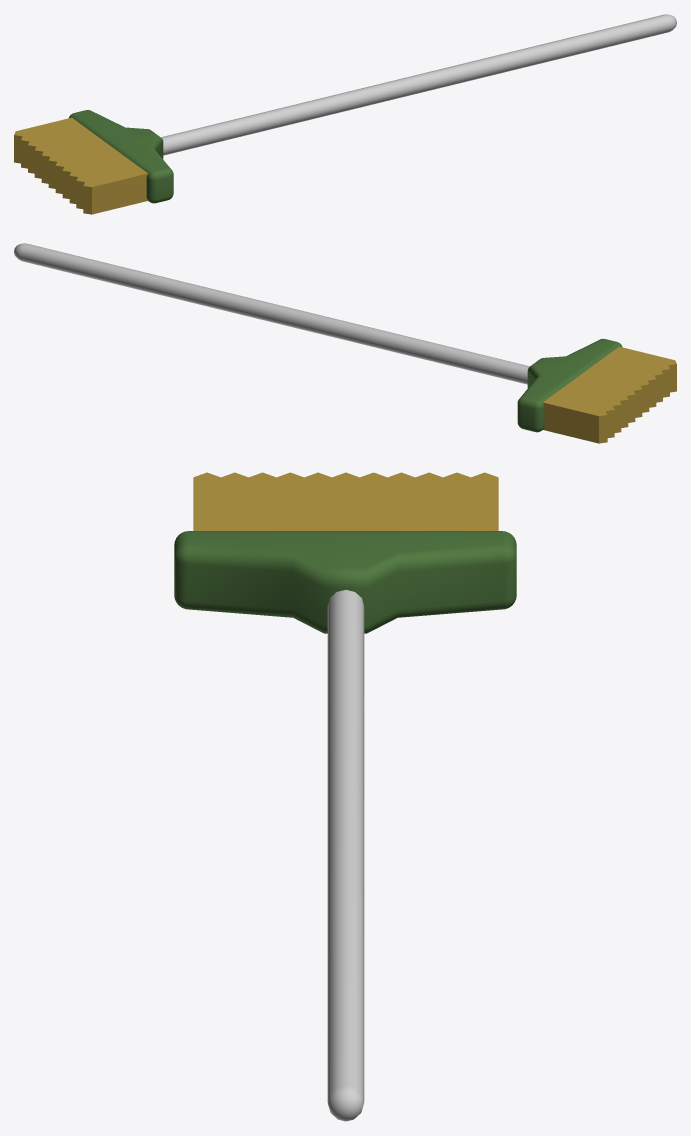
The model's file is BroomIndoor.fbx.
The picture shows the model from 3 angles, top to bottom: view 1: azimuth 30°, elevation 25°; view 2: azimuth 150°, elevation 25°; view 3: azimuth 270°, elevation 25°; orthographic projection. The views are drawn at different scales.
Visible parts, largest first — view 1: BroomIndoor; view 2: BroomIndoor; view 3: BroomIndoor.
Boxes of the visible parts, x1=… form: BroomIndoor: x1=14, y1=14, x2=676, y2=214; BroomIndoor: x1=14, y1=243, x2=676, y2=443; BroomIndoor: x1=174, y1=472, x2=516, y2=1121.
Size of the model in its own units: 1.5 by 0.0727 by 0.354.
